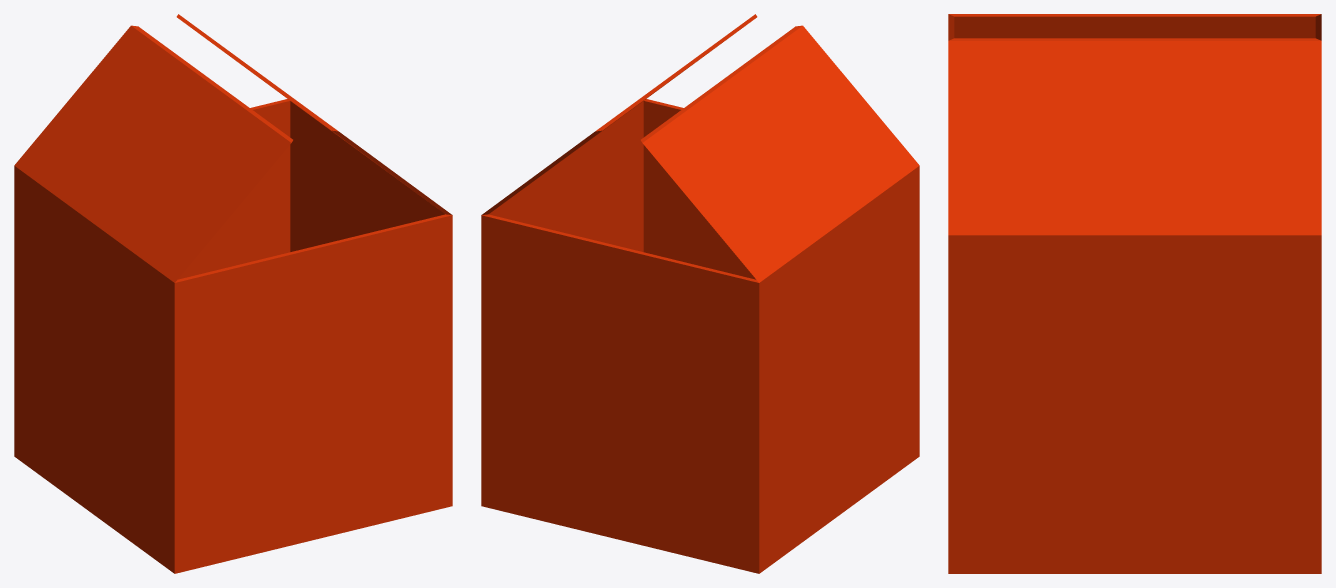
File: Cardboard_Box_01.fbx
3 views of the same model, side by side, from view 1: azimuth 30°, elevation 25°; view 2: azimuth 150°, elevation 25°; view 3: azimuth 270°, elevation 25° (orthographic). The views are drawn at different scales.
Parts seen in each view (by area): view 1: Cardboard_Box_01; view 2: Cardboard_Box_01; view 3: Cardboard_Box_01.
Boxes of the visible parts, x1,y1,x2,y2 form: Cardboard_Box_01: (14,14,452,573); Cardboard_Box_01: (481,14,919,573); Cardboard_Box_01: (948,14,1321,573).
Bounding box in the file's own units: 58.99 × 81.6 × 58.99.
